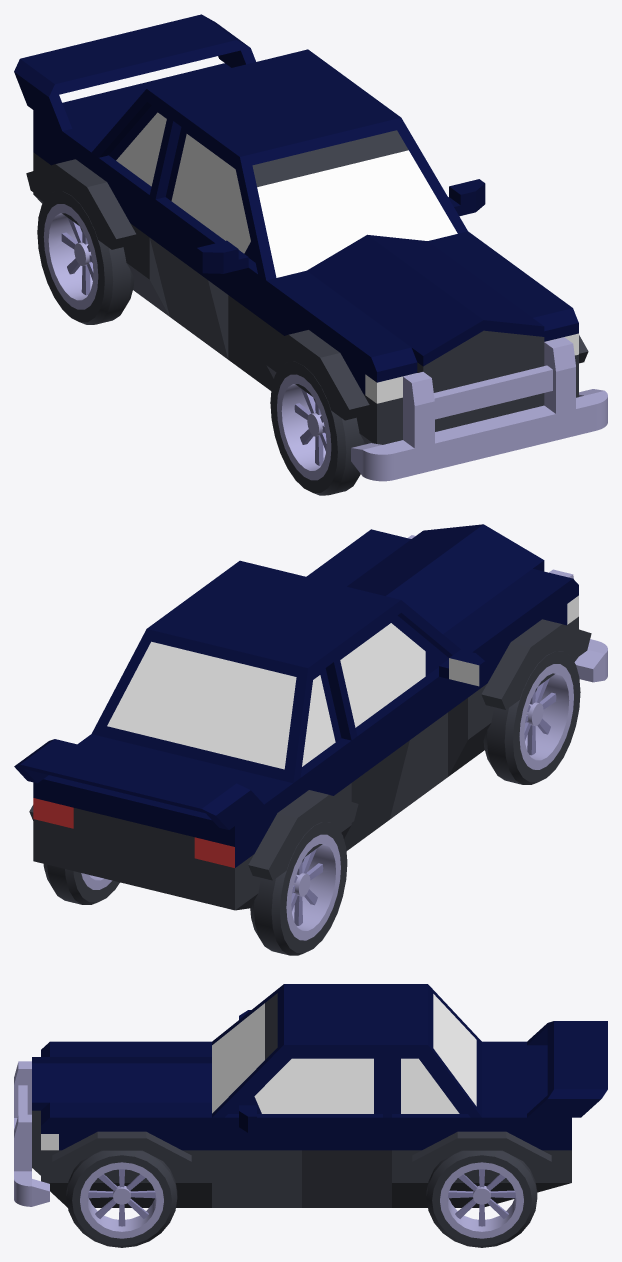
File: Luxblue.fbx
The picture shows the model from 3 angles, top to bottom: view 1: azimuth 30°, elevation 25°; view 2: azimuth 150°, elevation 25°; view 3: azimuth 270°, elevation 25°; orthographic projection. The views are drawn at different scales.
Visible parts, largest first — view 1: body_topStandard, body_frontLuxury, wheel_cycleSpokesDetailed (×2), bumper_large, body_sports, spoiler_small, body_backSolid, wheel_coverSquare (×2), body_topBackStandard, detail_mirror (×2); view 2: body_topBackStandard, body_backSolid, body_frontLuxury, body_topStandard, wheel_cycleSpokesDetailed (×3), body_sports, spoiler_small, wheel_coverSquare (×2), detail_mirror, bumper_large; view 3: body_frontLuxury, body_topStandard, body_sports, wheel_cycleSpokesDetailed (×2), body_backSolid, body_topBackStandard, spoiler_small, wheel_coverSquare (×2), bumper_large, detail_mirror.
Boxes of the visible parts, left/top/right/bottom form: body_topStandard: left=150, top=66, right=467, bottom=280; body_frontLuxury: left=266, top=231, right=578, bottom=444; wheel_cycleSpokesDetailed (×2): left=37, top=191, right=364, bottom=495; bumper_large: left=351, top=337, right=607, bottom=481; body_sports: left=149, top=195, right=273, bottom=390; spoiler_small: left=14, top=14, right=255, bottom=130; body_backSolid: left=33, top=63, right=230, bottom=316; wheel_coverSquare (×2): left=26, top=159, right=369, bottom=420; body_topBackStandard: left=91, top=49, right=330, bottom=186; detail_mirror (×2): left=196, top=179, right=485, bottom=273; body_topBackStandard: left=91, top=612, right=341, bottom=783; body_backSolid: left=33, top=734, right=351, bottom=910; body_frontLuxury: left=306, top=524, right=578, bottom=776; body_topStandard: left=170, top=560, right=460, bottom=740; wheel_cycleSpokesDetailed (×3): left=43, top=651, right=580, bottom=955; body_sports: left=344, top=667, right=467, bottom=850; spoiler_small: left=14, top=739, right=263, bottom=829; wheel_coverSquare (×2): left=248, top=619, right=591, bottom=880; detail_mirror: left=439, top=649, right=485, bottom=686; bumper_large: left=407, top=535, right=607, bottom=682; body_frontLuxury: left=32, top=1041, right=211, bottom=1207; body_topStandard: left=212, top=984, right=391, bottom=1117; body_sports: left=212, top=1114, right=391, bottom=1207; wheel_cycleSpokesDetailed (×2): left=66, top=1150, right=537, bottom=1247; body_backSolid: left=392, top=1041, right=571, bottom=1207; body_topBackStandard: left=392, top=984, right=481, bottom=1117; spoiler_small: left=527, top=1021, right=607, bottom=1117; wheel_coverSquare (×2): left=52, top=1131, right=551, bottom=1172; bumper_large: left=14, top=1061, right=49, bottom=1206; detail_mirror: left=239, top=1105, right=256, bottom=1132.
Bounding box in the file's own units: 14 × 11.78 × 33.
